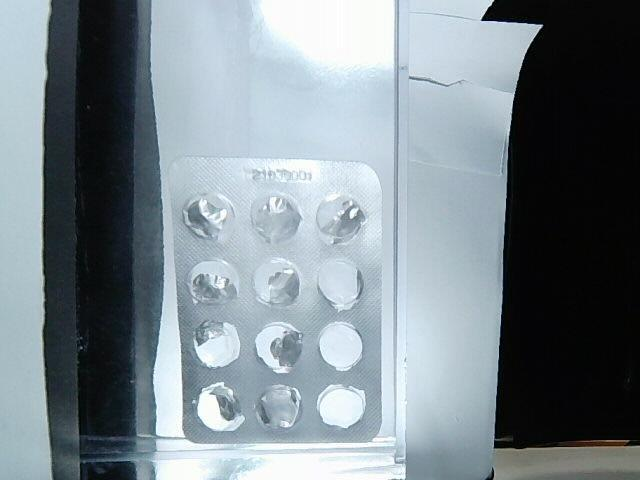Light Front: (170, 156, 382, 442)
No Pill Front: (316, 194, 366, 244), (251, 194, 302, 243), (183, 193, 235, 241), (255, 323, 302, 374), (318, 259, 364, 311), (196, 383, 244, 431), (186, 260, 238, 304), (254, 258, 300, 306), (319, 321, 362, 371), (255, 385, 301, 430), (316, 385, 364, 428), (194, 321, 239, 366)
